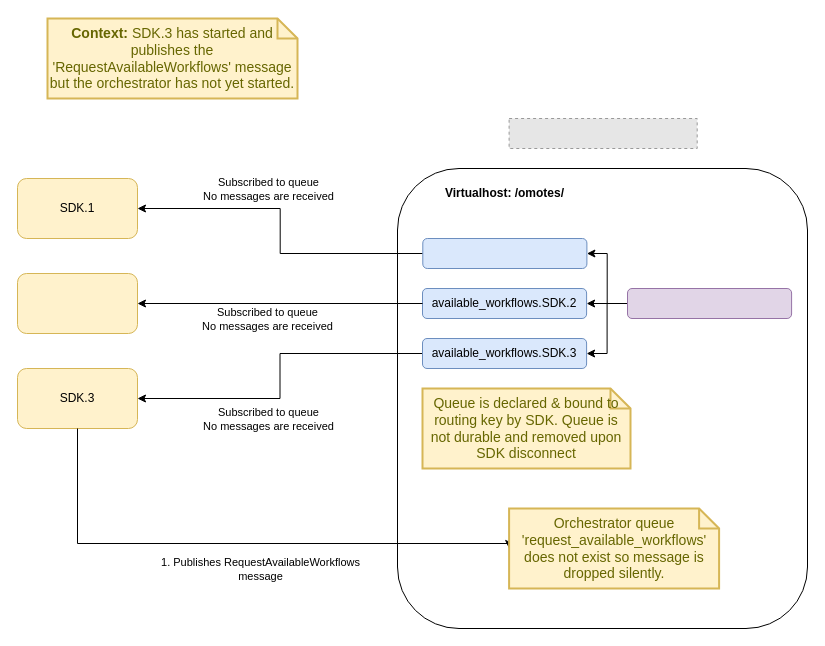
Image size: 825x646. Some labels were removed from this diagram. Grey dashed boxes stand in for pictures. Here are the shapes that lost their labels. From the top down, the box of each, then its label:
(422, 238, 587, 268): available_workflows.SDK.1
(16, 272, 138, 334): SDK.2
(626, 288, 792, 318): Routing key: available_workflows
